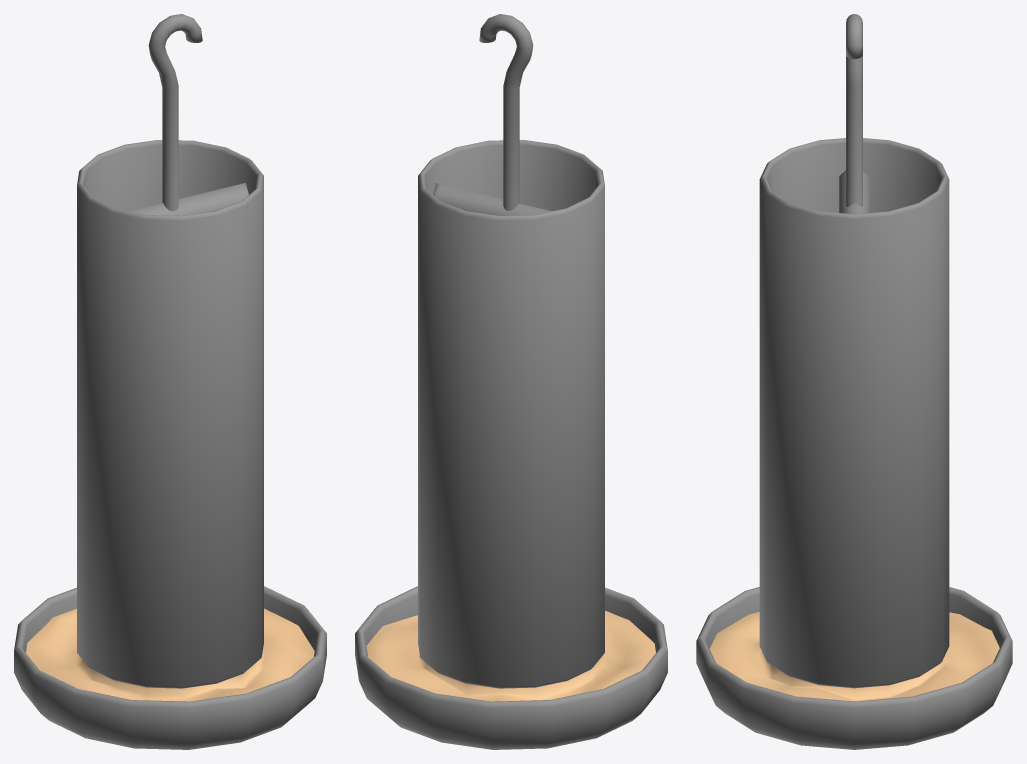
The model's file is Feeder_Full.fbx.
The picture shows the model from 3 angles, left to right: view 1: azimuth 30°, elevation 25°; view 2: azimuth 150°, elevation 25°; view 3: azimuth 270°, elevation 25°; orthographic projection.
Visible parts, largest first — view 1: Feeder_High; view 2: Feeder_High; view 3: Feeder_High.
Boxes of the visible parts, left/top/right/bottom form: Feeder_High: left=14, top=14, right=326, bottom=749; Feeder_High: left=355, top=14, right=667, bottom=749; Feeder_High: left=696, top=14, right=1012, bottom=749.
Bounding box in the file's own units: 23.93 × 56.58 × 23.93.
